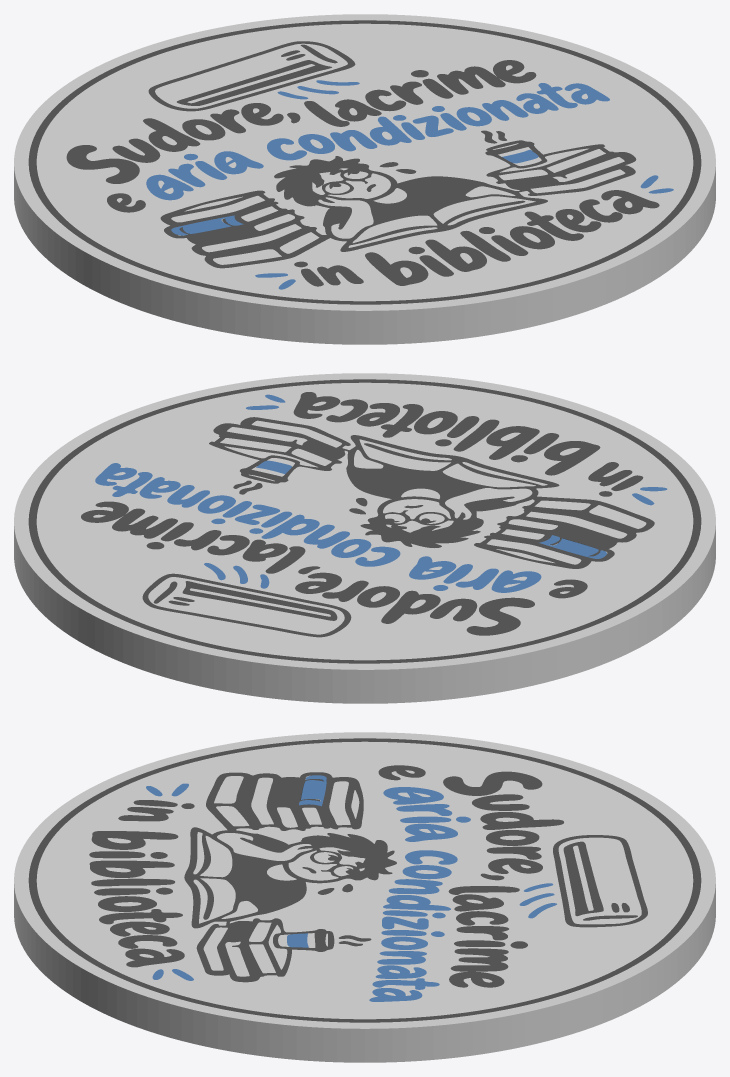
Rendered from sottobicchiere-sudore-e-biblioteca.glb.
3 views of the same model, one above another, from view 1: azimuth 30°, elevation 25°; view 2: azimuth 150°, elevation 25°; view 3: azimuth 270°, elevation 25° (orthographic).
Visible parts, largest first — view 1: coaster_base, coaster_ink, coaster_accent; view 2: coaster_base, coaster_ink, coaster_accent; view 3: coaster_base, coaster_ink, coaster_accent.
Boxes of the visible parts, x1,y1,x2,y2 form: coaster_base: (14, 14, 715, 344); coaster_ink: (28, 20, 701, 304); coaster_accent: (146, 80, 673, 289); coaster_base: (14, 373, 715, 703); coaster_ink: (28, 379, 701, 663); coaster_accent: (95, 394, 667, 592); coaster_base: (14, 732, 715, 1062); coaster_ink: (28, 738, 701, 1022); coaster_accent: (146, 775, 556, 1001).
Size of the model in its own units: 0.075 by 0.004 by 0.075.
